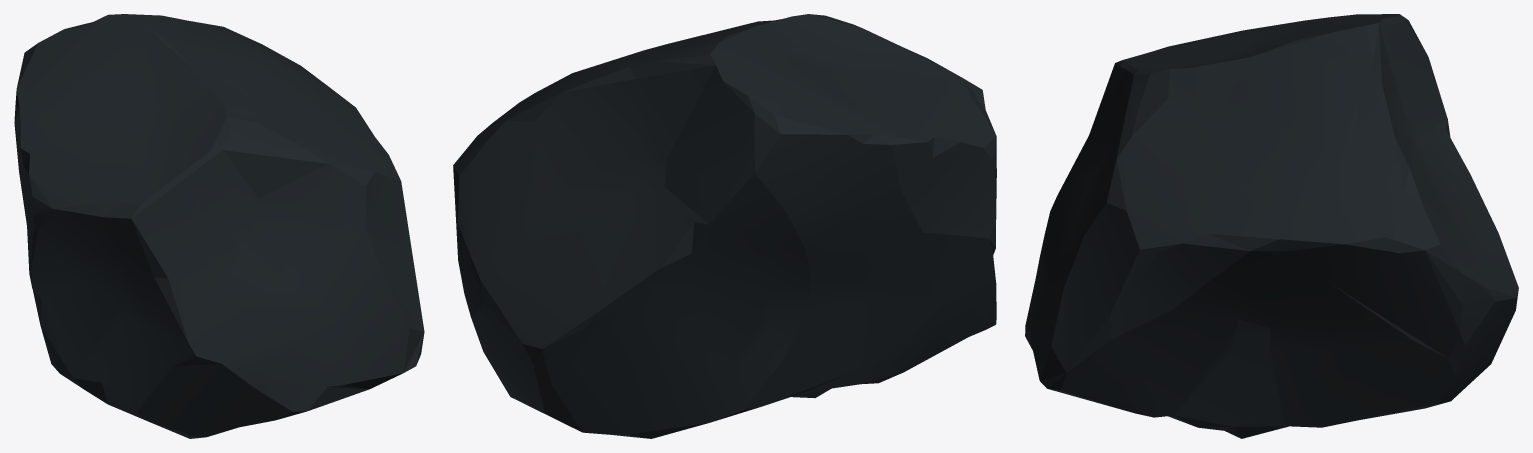
Rendered from Asteroid_m_18.FBX.
3 views of the same model, side by side, from view 1: azimuth 30°, elevation 25°; view 2: azimuth 150°, elevation 25°; view 3: azimuth 270°, elevation 25° (orthographic). The views are drawn at different scales.
Visible parts, largest first — view 1: Asteroid_m_18; view 2: Asteroid_m_18; view 3: Asteroid_m_18.
Part boxes in pixels (x1=…): Asteroid_m_18: x1=14, y1=14, x2=424, y2=438; Asteroid_m_18: x1=453, y1=14, x2=996, y2=438; Asteroid_m_18: x1=1025, y1=14, x2=1518, y2=438.
Bounding box in the file's own units: 764 × 679 × 855.
